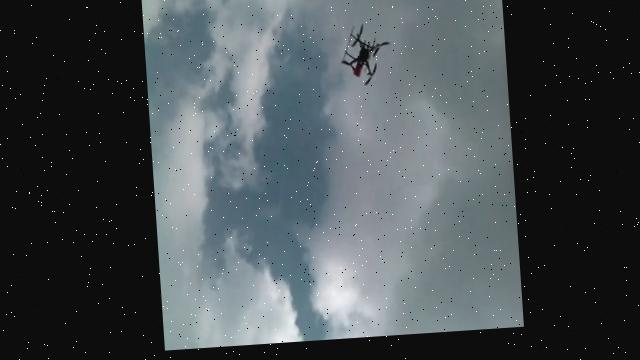drone: (333, 25, 393, 93)
